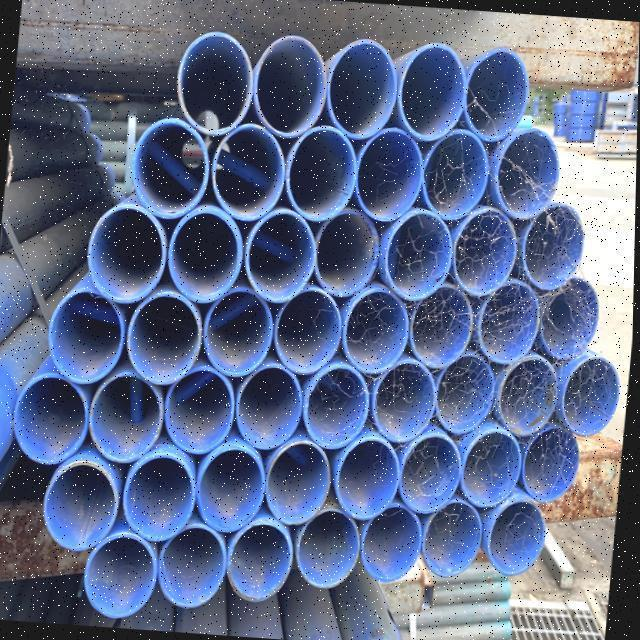pipe: (245, 40, 329, 142), (127, 120, 210, 223), (175, 36, 256, 140), (41, 289, 128, 384), (87, 206, 168, 306), (326, 44, 400, 145), (455, 53, 534, 147), (128, 295, 206, 388), (287, 127, 359, 227), (350, 132, 424, 228), (396, 47, 465, 149), (17, 375, 92, 468), (162, 372, 241, 460), (380, 215, 456, 306), (167, 212, 242, 304), (212, 127, 283, 224), (92, 376, 166, 466), (245, 211, 316, 304), (123, 456, 196, 546), (203, 291, 276, 378), (46, 465, 119, 552), (404, 285, 473, 377), (492, 131, 560, 224), (86, 533, 159, 619), (298, 368, 370, 454), (275, 289, 345, 377), (315, 210, 383, 299), (449, 214, 516, 304), (235, 367, 302, 456), (421, 137, 488, 225), (339, 293, 410, 376), (196, 452, 266, 536), (521, 203, 586, 292), (263, 445, 330, 530), (337, 436, 403, 522), (158, 531, 228, 612), (227, 522, 295, 603), (400, 432, 465, 516), (298, 510, 367, 589), (372, 368, 437, 450), (479, 285, 540, 370), (457, 432, 520, 514), (499, 355, 560, 438), (421, 502, 485, 581), (562, 357, 620, 444), (435, 358, 497, 439), (361, 503, 423, 584), (542, 281, 602, 364), (520, 427, 578, 509), (486, 505, 546, 583)
